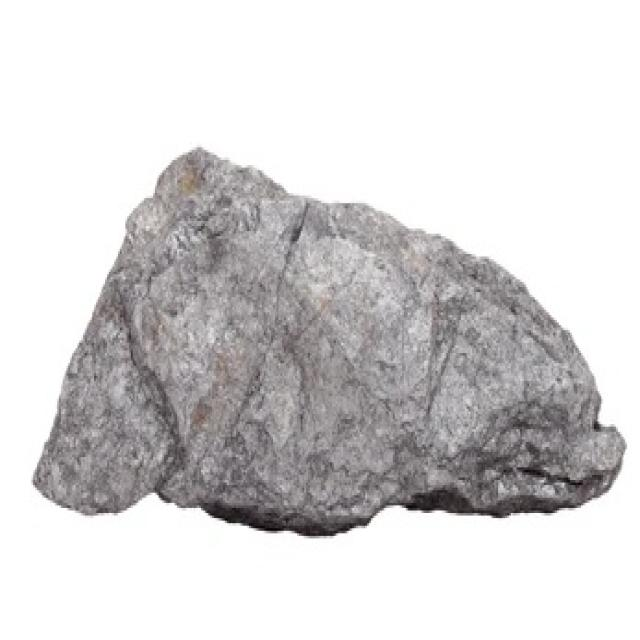Sedimentary: (33, 129, 629, 564)
